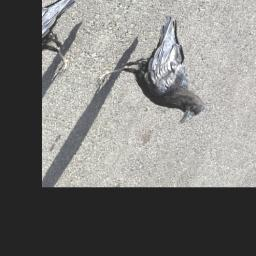Crow: (86, 7, 250, 129)
